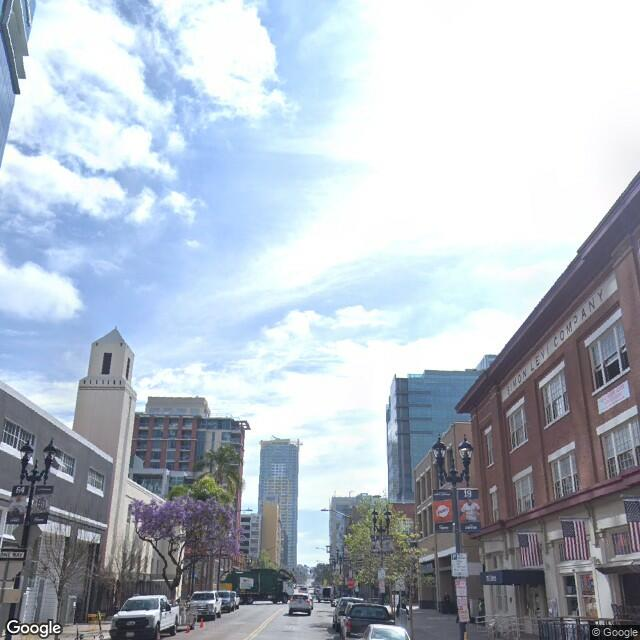window: (577, 326, 628, 387), (595, 420, 640, 470), (531, 372, 576, 422)
